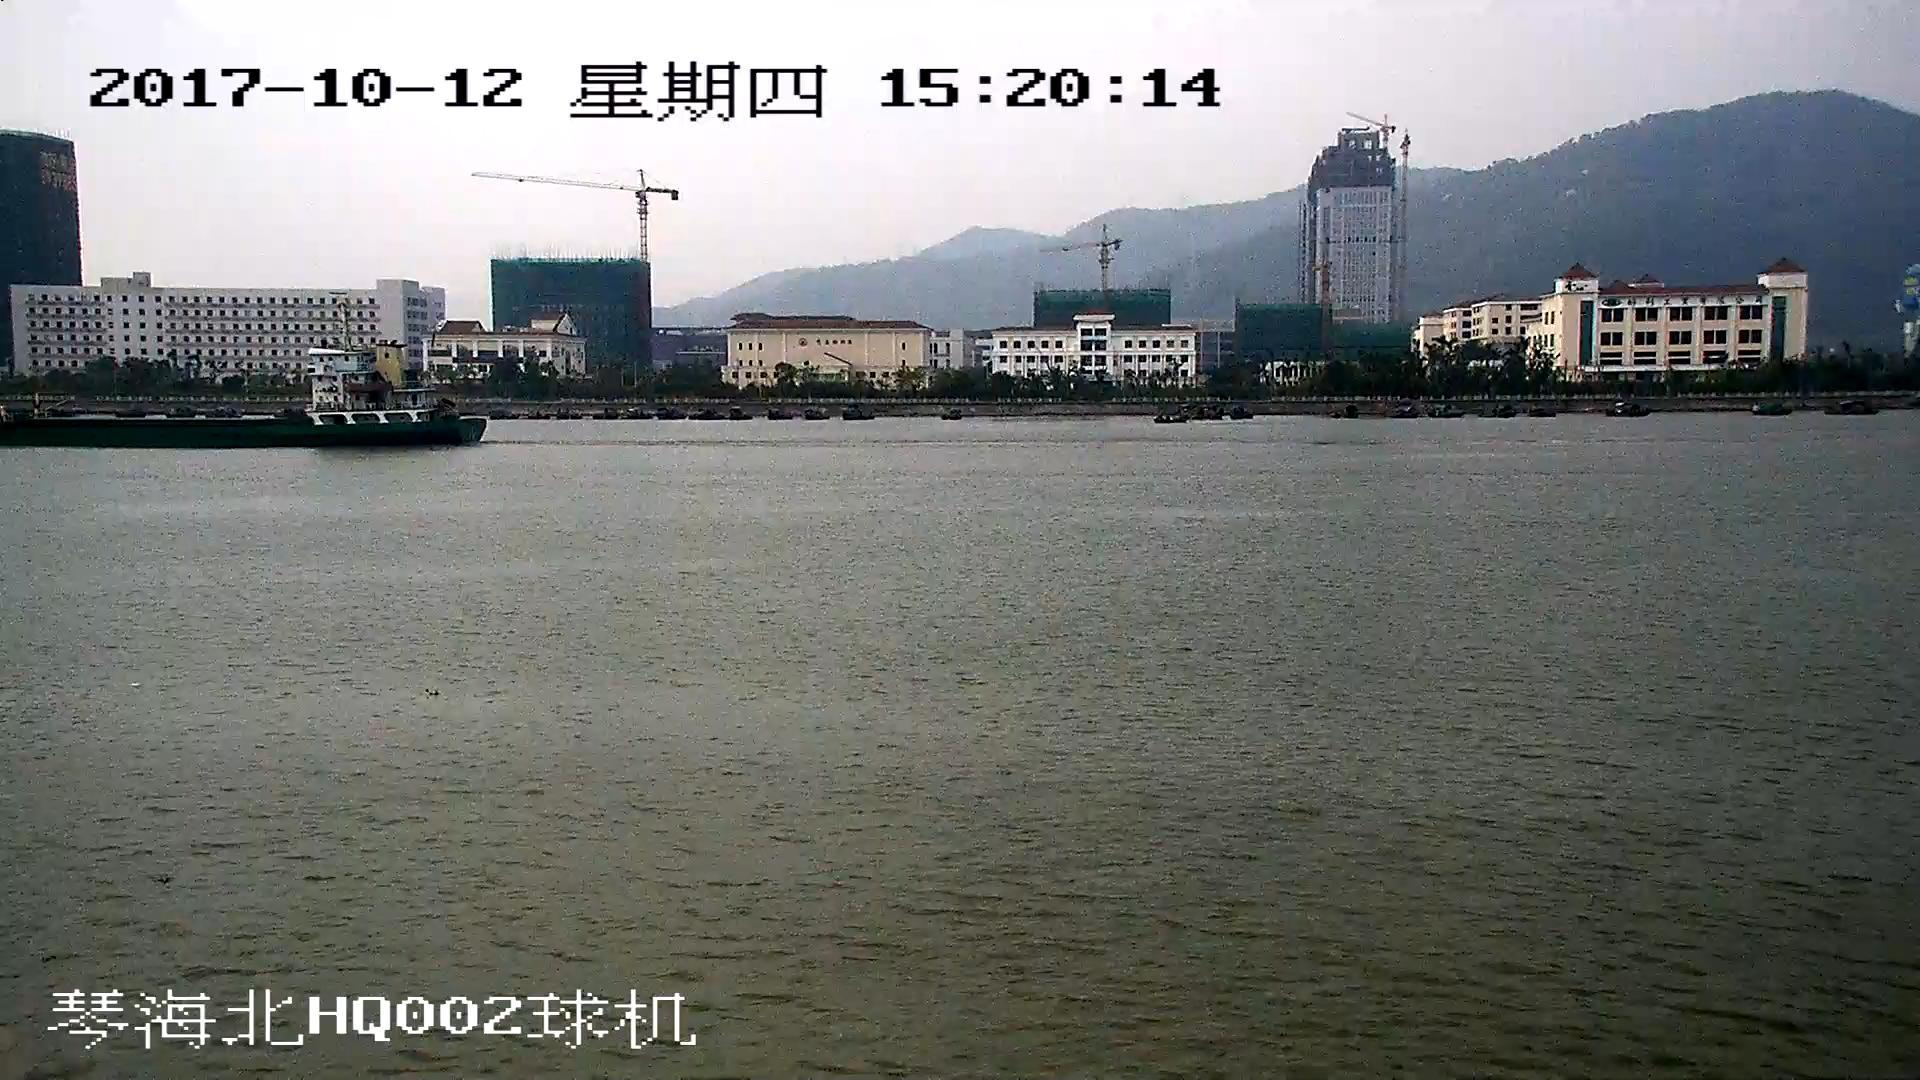Ship: (3, 353, 488, 448)
